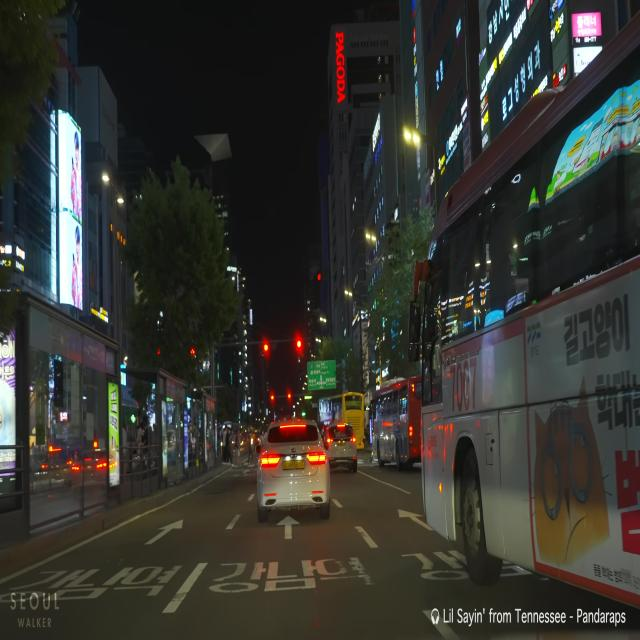Red Light: (263, 343, 269, 352), (297, 340, 301, 348)
